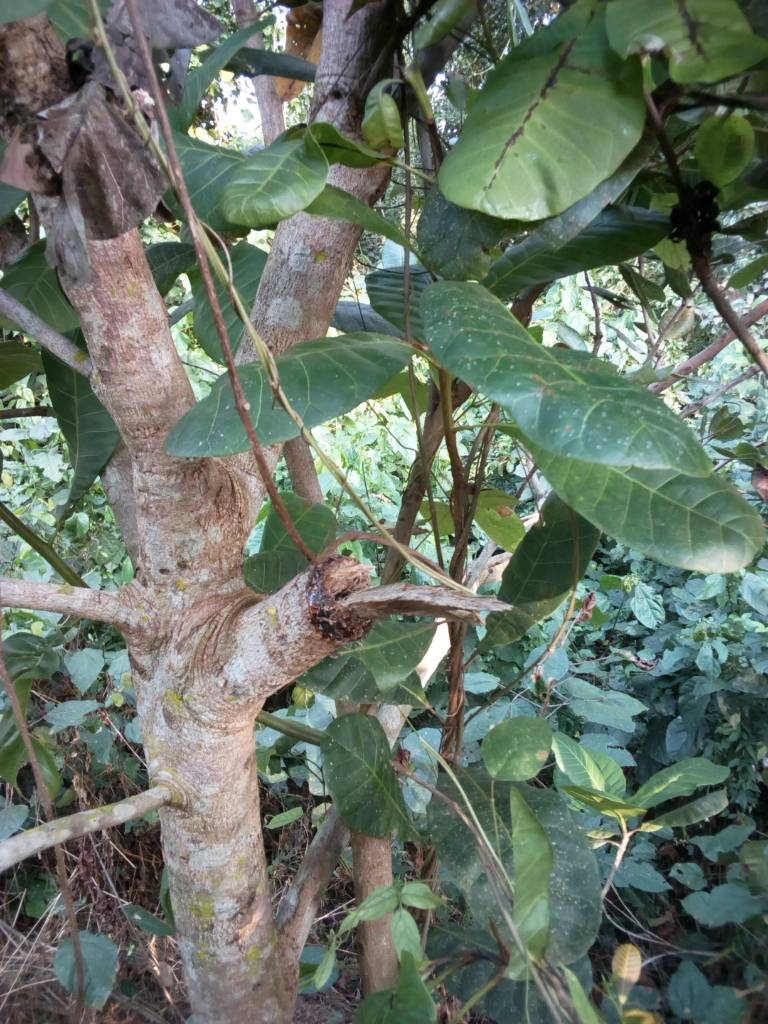Analepse trifasciata: (282, 544, 424, 664)
